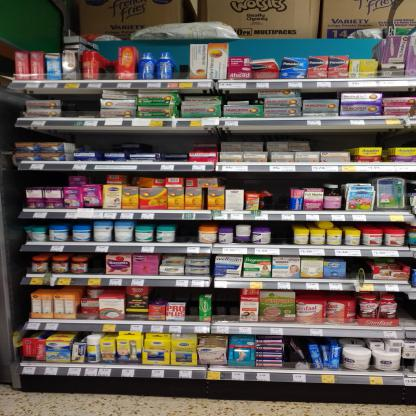Void: (78, 132, 153, 152), (351, 131, 412, 146), (64, 96, 100, 118), (269, 174, 290, 207), (226, 133, 310, 141), (160, 130, 188, 152), (17, 131, 70, 142), (214, 292, 234, 319), (316, 134, 344, 150), (400, 297, 415, 326), (186, 291, 202, 318), (297, 172, 321, 187), (355, 258, 372, 278), (230, 176, 256, 189), (150, 290, 179, 300), (276, 226, 292, 243), (179, 226, 197, 240), (304, 93, 340, 100), (91, 256, 102, 271)
